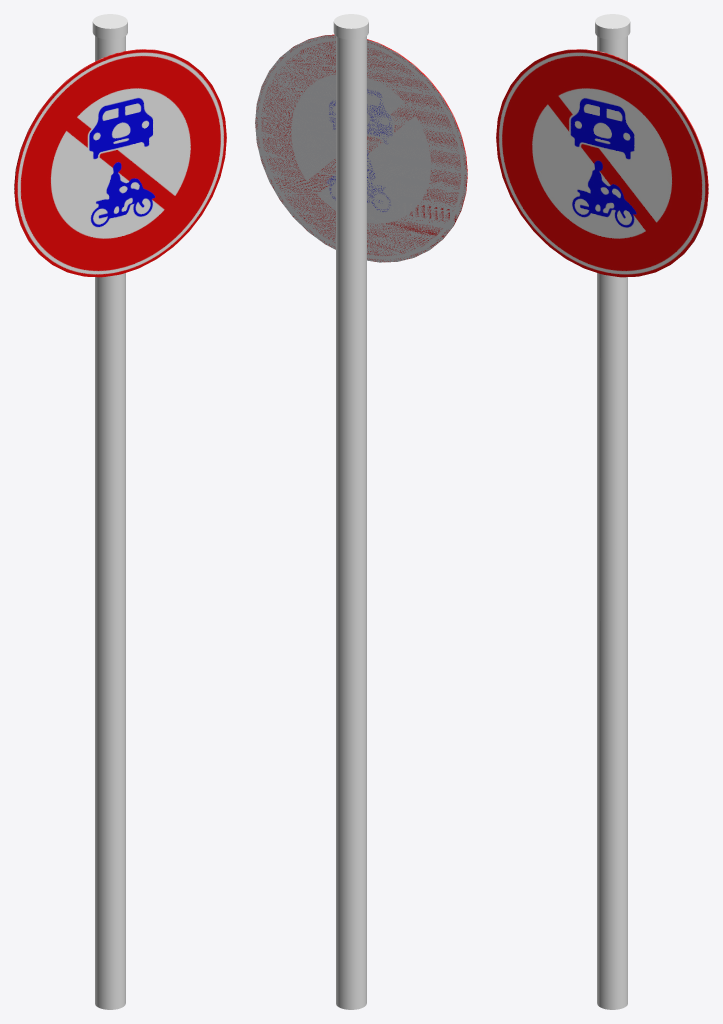
The picture shows the model from 3 angles, left to right: view 1: azimuth 30°, elevation 25°; view 2: azimuth 150°, elevation 25°; view 3: azimuth 330°, elevation 25°; orthographic projection.
Parts seen in each view (by area): view 1: group_0, 支柱1 (×2); view 2: 支柱1 (×2), group_0; view 3: group_0, 支柱1 (×2).
Boxes of the visible parts, left/top/right/bottom form: group_0: left=14, top=49, right=226, bottom=277; 支柱1 (×2): left=92, top=14, right=127, bottom=1009; 支柱1 (×2): left=333, top=14, right=368, bottom=1009; group_0: left=255, top=35, right=467, bottom=262; group_0: left=496, top=49, right=708, bottom=277; 支柱1 (×2): left=595, top=14, right=630, bottom=1009.
Bounding box in the file's own units: 23.15 × 3.63 × 102.
3 materials, 1 textured.
